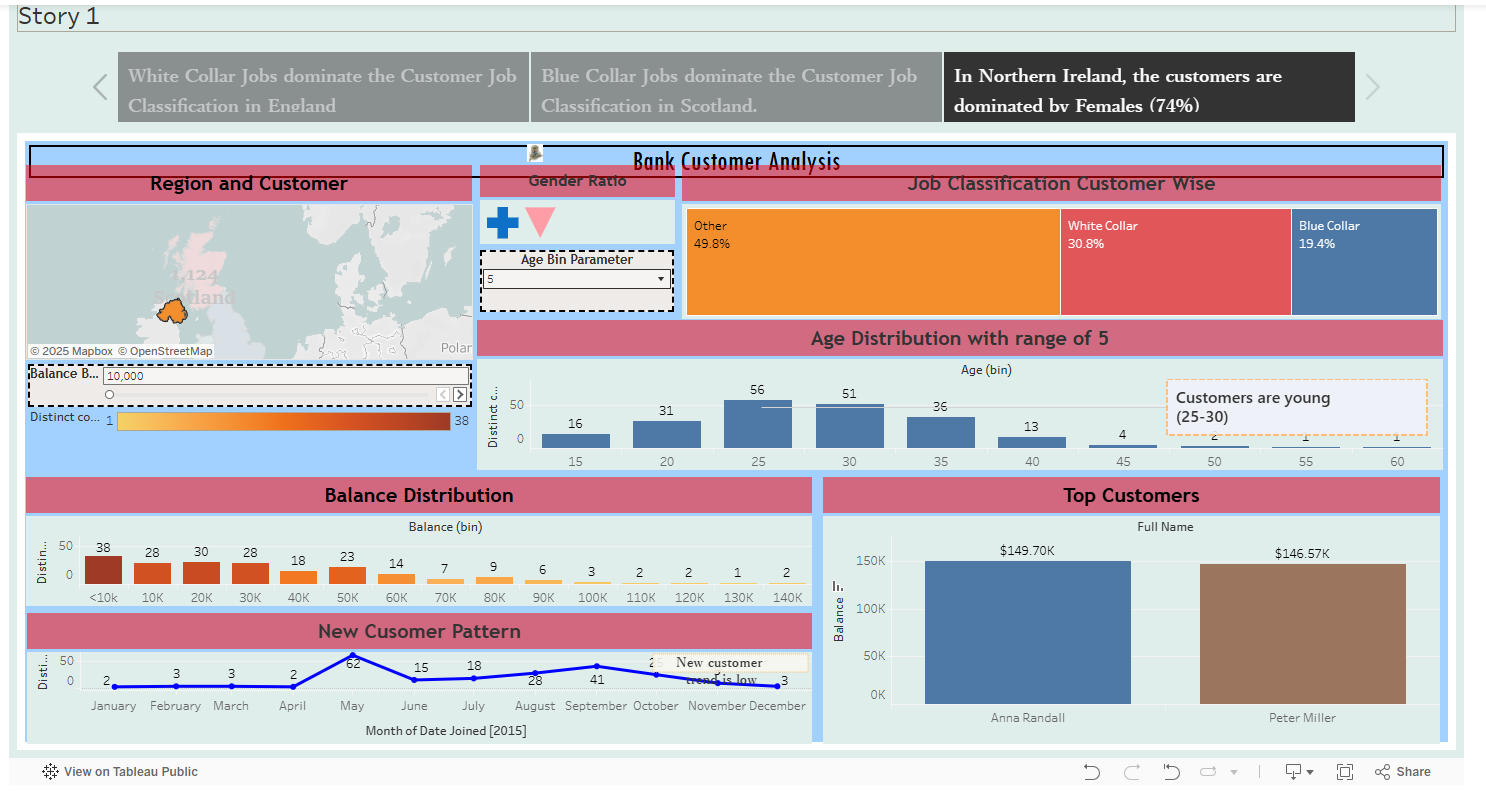

The dashboard page shown, as its layout file describes it:
{"tool":"tableau","page":{"name":"Dashboard 1","canvas":[1000,1000],"units":"permille","ordinal":0},"visuals":[{"type":"text","box":[4.7,8.9,990.6,45.8]},{"type":"image","param":"Image/moneybag.jpg","box":[315.2,18.2,89.2,28.6]},{"type":"worksheet","title":"Region and Customer","mark":"Multipolygon","box":[6.4,52.5,310.7,315.9]},{"type":"worksheet","title":"Gender Distribution","mark":"Shape","box":[321.8,52.5,135.2,128.3]},{"type":"worksheet","title":"Job Classification Customer Wise","mark":"Automatic","box":[462.3,52.5,527.2,251.1]},{"type":"parameter","param":"[Parameters].[Age (bin) Parameter]","box":[321.8,189.7,134.6,100.5]},{"type":"worksheet","title":"Age Distribution","mark":"Automatic","rows":["Customer ID"],"cols":["Age (bin)"],"box":[319.5,303.6,671.1,242.2]},{"type":"parameter","param":"[Parameters].[Balance (bin) Parameter]","box":[8,374,308.4,70.1]},{"type":"legend","title":"Balance Distribution","param":"[federated.0nr486x0nt0enj11dynmx0gq46b9].[ctd:Customer ID:qk]","box":[8.8,445,309.2,53.7]},{"type":"worksheet","title":"Balance Distribution","mark":"Automatic","rows":["Customer ID"],"cols":["Balance (bin)"],"box":[6.4,556.9,545.9,209.8]},{"type":"worksheet","title":"Top Customers","mark":"Automatic","rows":["Balance"],"cols":["Calculation_1134062730736029696"],"box":[560,556.9,428.9,433]},{"type":"worksheet","title":"New Cusomer Pattern","mark":"Automatic","rows":["Customer ID"],"cols":["Date Joined"],"box":[7,777.9,545.4,213.2]}]}

Visuals, with their boxes on the dashboard's canvas, which has no fixed pixel size, in thousandths of its width and height (x1, y1, x2, y2). These are canvas units, not pixel positions in the 1486x791 screenshot, which may show the page scaled, cropped or inside an application window:
text: BBox(5, 9, 995, 55)
image: BBox(315, 18, 404, 47)
"Region and Customer" worksheet (Multipolygon marks): BBox(6, 52, 317, 368)
"Gender Distribution" worksheet (Shape marks): BBox(322, 52, 457, 181)
"Job Classification Customer Wise" worksheet: BBox(462, 52, 990, 304)
parameter: BBox(322, 190, 456, 290)
"Age Distribution" worksheet: BBox(320, 304, 991, 546)
parameter: BBox(8, 374, 316, 444)
"Balance Distribution" legend: BBox(9, 445, 318, 499)
"Balance Distribution" worksheet: BBox(6, 557, 552, 767)
"Top Customers" worksheet: BBox(560, 557, 989, 990)
"New Cusomer Pattern" worksheet: BBox(7, 778, 552, 991)
